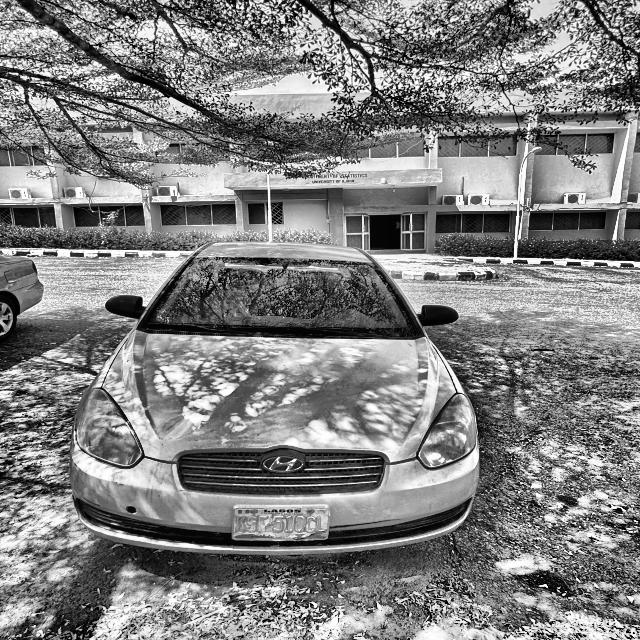car: (68, 182, 518, 590)
